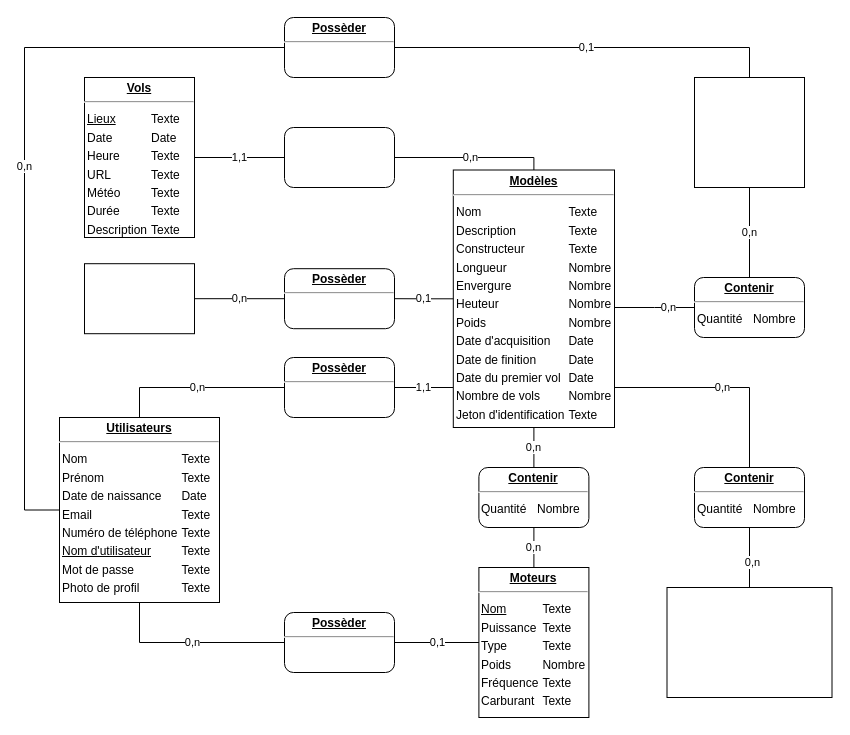
The diagram is 850 pixels wide and 735 high, and some of its shapes have lost their labels. Here are the shapes that lost their labels. From the top down, the centre of each, then its label:
At (749,132): "Batteries Capacité Texte Cellules Texte Type Texte Ratio C-Rate Texte".
At (339,157): "Faire".
At (139,298): "Télécommandes Nom Texte Marque Texte".
At (749,642): "Hélices Taille Texte Type Texte Nombre de pales Nombre".
